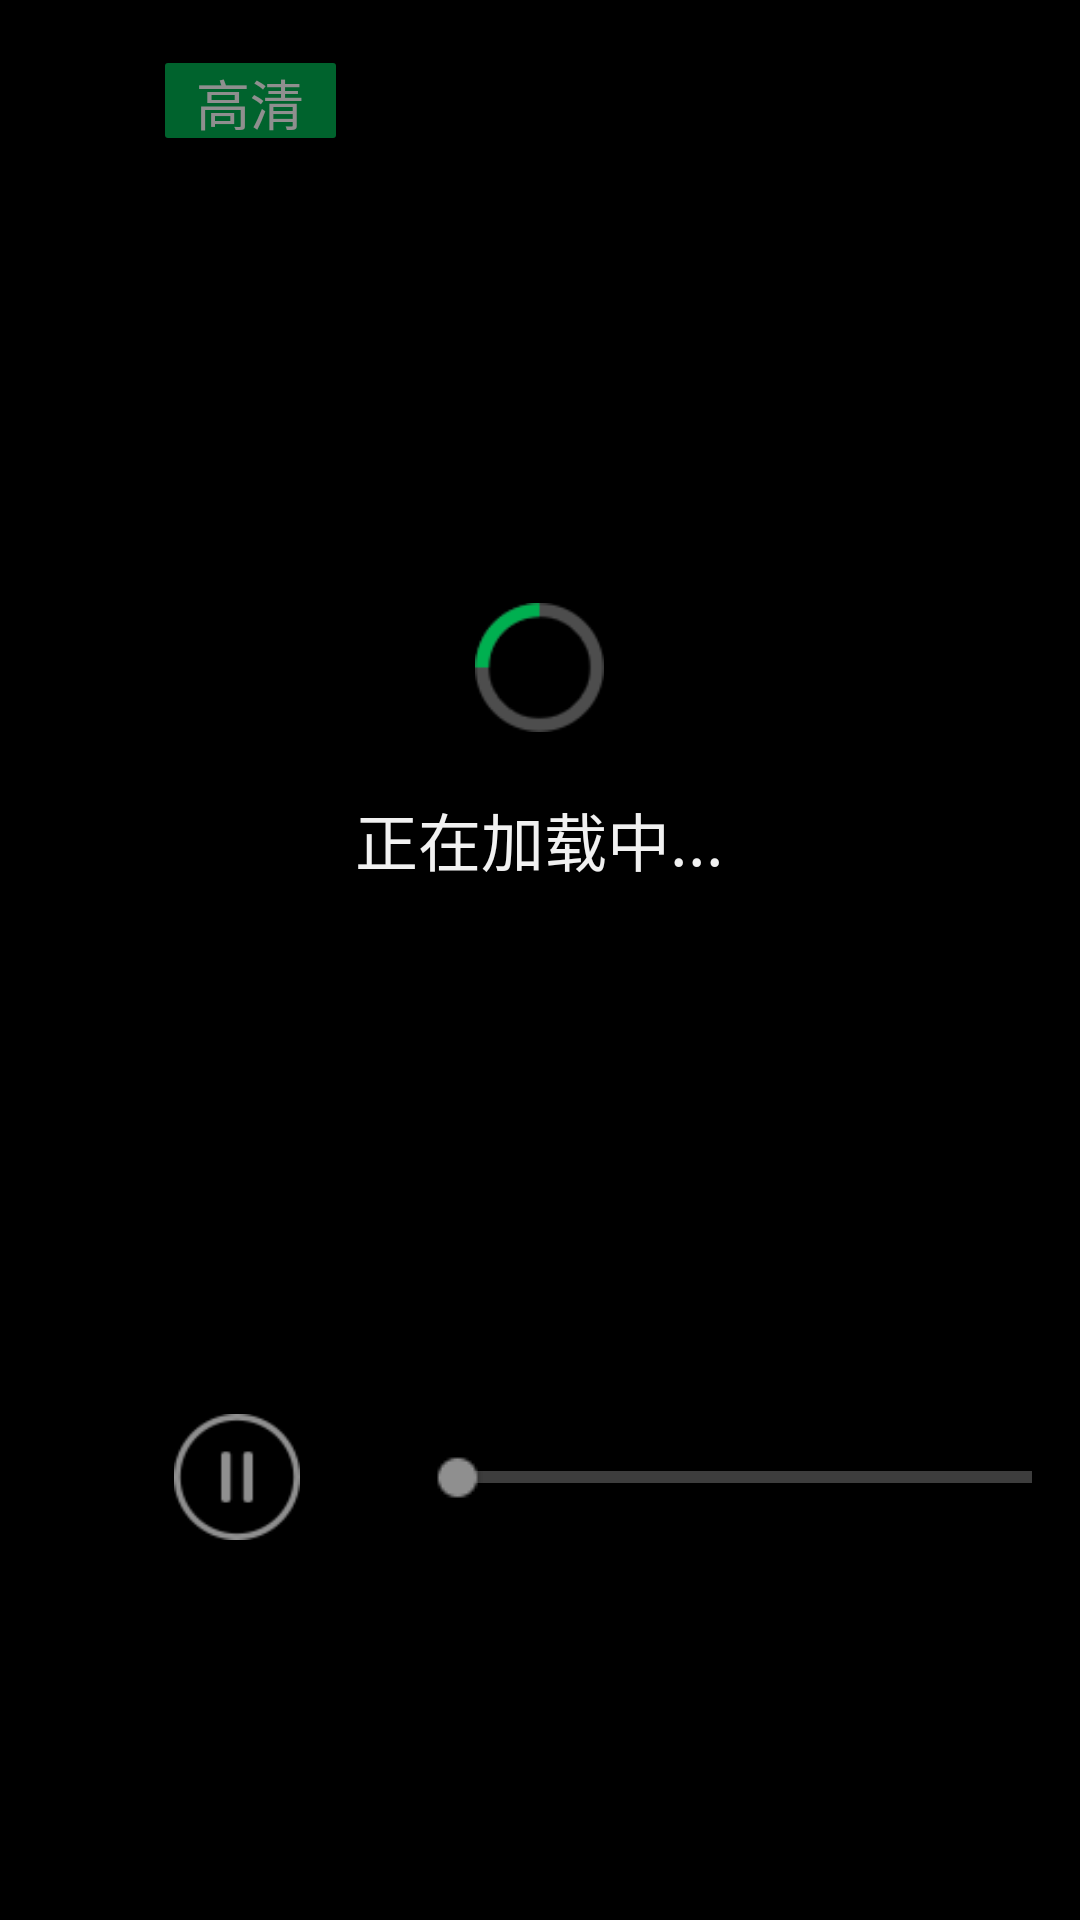

Icon click points for this 1080px x 1920px phone screenshot, format [x,y]:
loading: [539,667]
player progressbar stop: [237,1477]
